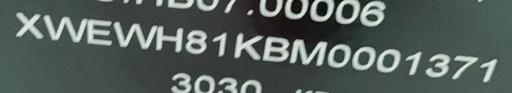letter: (42, 13, 88, 45), (112, 20, 156, 51), (288, 39, 328, 66), (11, 9, 43, 40), (232, 31, 264, 62), (85, 17, 115, 46), (260, 35, 290, 64), (156, 24, 184, 53), (351, 45, 377, 72), (376, 47, 402, 74), (452, 54, 478, 81), (184, 26, 208, 55), (326, 40, 350, 69), (424, 53, 450, 78), (404, 48, 422, 78), (211, 30, 227, 57)
